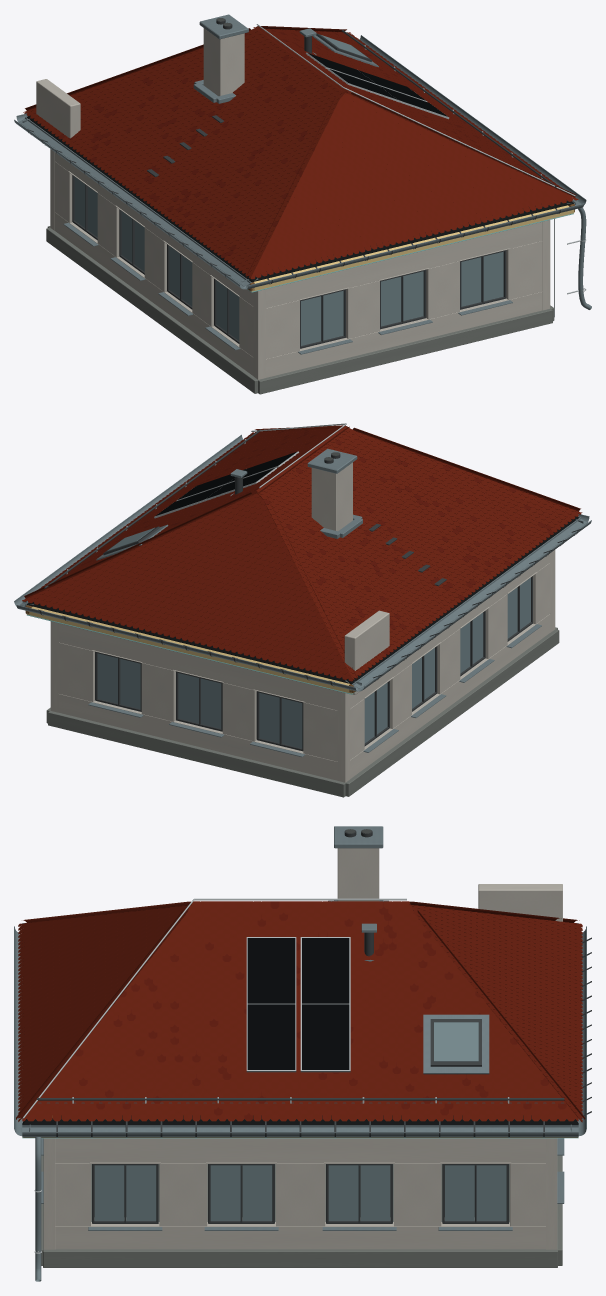
File: uebersicht.glb
3 renders of one model, top to bottom at view 1: azimuth 30°, elevation 25°; view 2: azimuth 150°, elevation 25°; view 3: azimuth 270°, elevation 25°, orthographic. The views are drawn at different scales.
Visible parts, largest first — view 1: Bauteil_s01_deckung, Bauteil_g02_tragwerk.001, Bauteil_w04_deckung, Bauteil_g02_tragwerk.004, Bauteil_g02_tragwerk, Bauteil_s03_deckung, Bauteil_s01_deckung.001, Bauteil_g02_tragwerk.003, Schornsteinschaft, Bauteil_g03_daemmung, Bauteil_g01_zusatzebene, Bauteil_s02_deckung (+10 smaller); view 2: Bauteil_s01_deckung, Bauteil_g02_tragwerk.001, Bauteil_w04_deckung, Bauteil_g02_tragwerk.004, Bauteil_g02_tragwerk, Bauteil_s03_deckung, Bauteil_s01_deckung.001, Bauteil_g02_tragwerk.003, Schornsteinschaft, Bauteil_g03_daemmung, Bauteil_s02_deckung, Bauteil_g01_zusatzebene (+8 smaller); view 3: Bauteil_s01_deckung, Bauteil_g02_tragwerk.001, Bauteil_w04_deckung, Bauteil_g02_tragwerk.004, Bauteil_a01_deckung.001, Bauteil_g02_tragwerk, Bauteil_s03_deckung, Bauteil_s01_deckung.001, Bauteil_g02_tragwerk.003, Bauteil_g01_zusatzebene, Bauteil_s02_deckung, Anschlusswand Nachbarbauteil (+13 smaller).
Boxes of the visible parts, bbox=[...] form: Bauteil_s01_deckung: bbox=[24, 26, 574, 278]; Bauteil_g02_tragwerk.001: bbox=[50, 149, 550, 379]; Bauteil_w04_deckung: bbox=[23, 29, 578, 279]; Bauteil_g02_tragwerk.004: bbox=[74, 177, 503, 345]; Bauteil_g02_tragwerk: bbox=[46, 226, 554, 394]; Bauteil_s03_deckung: bbox=[14, 34, 586, 289]; Bauteil_s01_deckung.001: bbox=[58, 29, 534, 258]; Bauteil_g02_tragwerk.003: bbox=[72, 175, 506, 348]; Schornsteinschaft: bbox=[203, 28, 244, 96]; Bauteil_g03_daemmung: bbox=[251, 205, 574, 291]; Bauteil_g01_zusatzebene: bbox=[26, 116, 573, 282]; Bauteil_s02_deckung: bbox=[19, 118, 580, 286]; Bauteil_s01_deckung: bbox=[26, 425, 581, 679]; Bauteil_g02_tragwerk.001: bbox=[50, 550, 555, 782]; Bauteil_w04_deckung: bbox=[22, 430, 582, 681]; Bauteil_g02_tragwerk.004: bbox=[97, 577, 530, 748]; Bauteil_g02_tragwerk: bbox=[46, 627, 559, 797]; Bauteil_s03_deckung: bbox=[14, 433, 591, 691]; Bauteil_s01_deckung.001: bbox=[39, 429, 553, 655]; Bauteil_g02_tragwerk.003: bbox=[95, 576, 532, 751]; Schornsteinschaft: bbox=[311, 462, 352, 531]; Bauteil_g03_daemmung: bbox=[26, 606, 352, 693]; Bauteil_s02_deckung: bbox=[19, 518, 586, 688]; Bauteil_g01_zusatzebene: bbox=[26, 516, 579, 684]; Bauteil_s01_deckung: bbox=[22, 901, 578, 1121]; Bauteil_g02_tragwerk.001: bbox=[43, 1138, 557, 1249]; Bauteil_w04_deckung: bbox=[18, 905, 582, 1122]; Bauteil_g02_tragwerk.004: bbox=[94, 1165, 506, 1220]; Bauteil_a01_deckung.001: bbox=[247, 938, 349, 1069]; Bauteil_g02_tragwerk: bbox=[41, 1155, 562, 1267]; Bauteil_s03_deckung: bbox=[14, 923, 586, 1136]; Bauteil_s01_deckung.001: bbox=[74, 901, 566, 1121]; Bauteil_g02_tragwerk.003: bbox=[92, 1164, 509, 1223]; Bauteil_g01_zusatzebene: bbox=[22, 1115, 578, 1125]; Bauteil_s02_deckung: bbox=[22, 1121, 578, 1131]; Anschlusswand Nachbarbauteil: bbox=[478, 884, 562, 921].
Bounding box in the file's own units: 10.67 × 7.18 × 11.94.
Materials: 14 (6 with a texture image).
